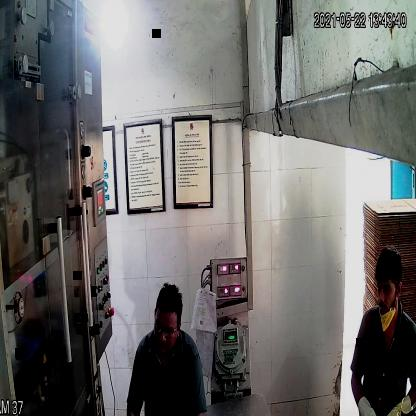goggles: (152, 317, 178, 343)
no_goggles: (374, 278, 398, 298)
